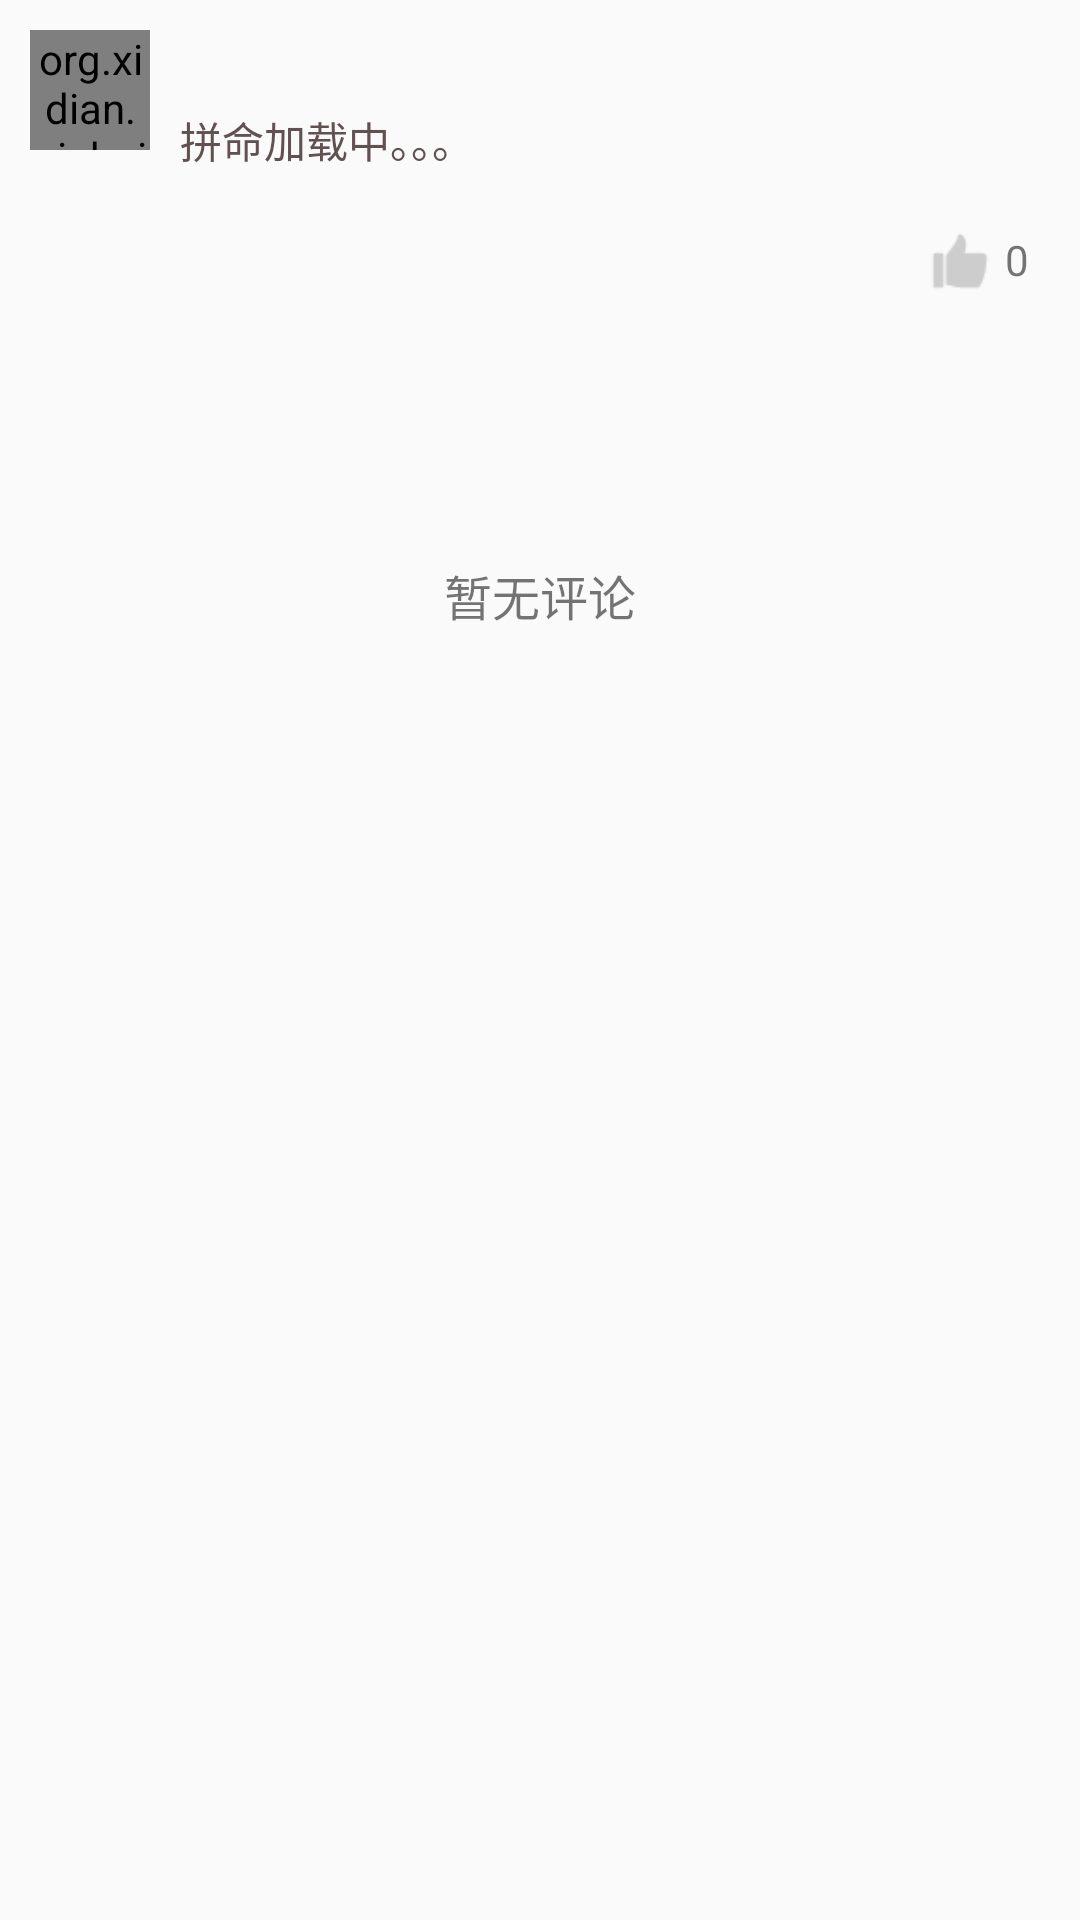

Named icons in this screenshot (1080*1920) and their centers, [x,y]:
zan back: [960,261]
